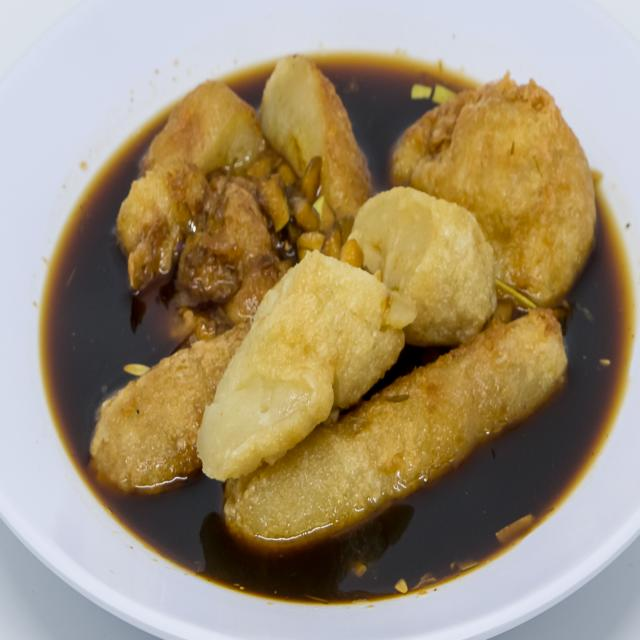Pempek-Palembang: (78, 42, 606, 567)
